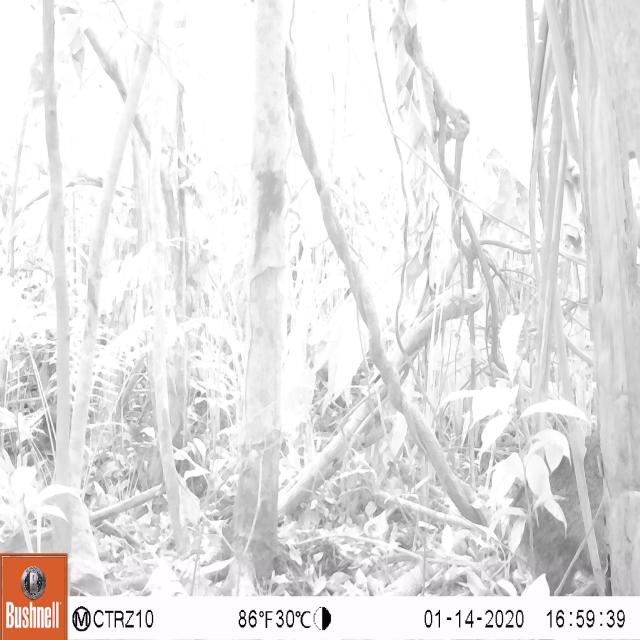White-lipped Peccary: (428, 350, 636, 591)
